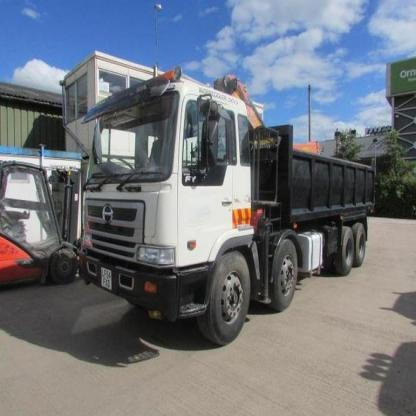dump_truck: (69, 74, 380, 346)
